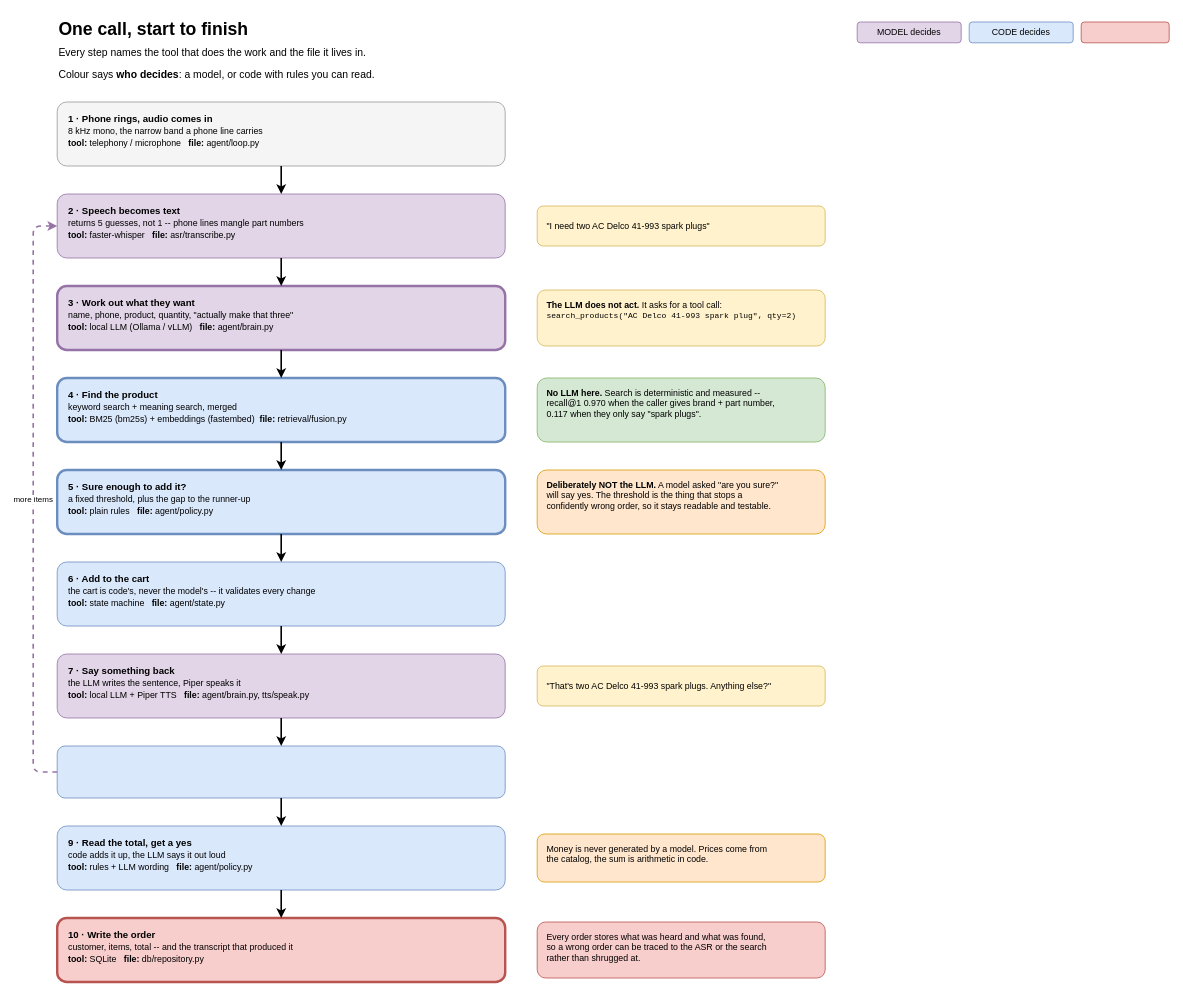
Some shapes in this 1183 by 997 pixel diagram are drawn without their labels. Each missing label, with the centre of its shape:
"8 · Anything else? → loop back to step 2 tool: state machine file: agent/loop.py" belongs at (280,771).
"STORAGE" belongs at (1124,32).
